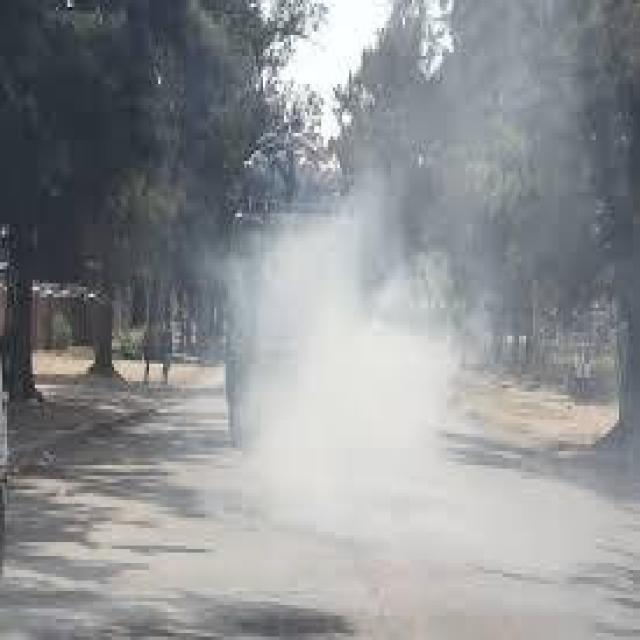Smoke: (198, 135, 460, 560)
